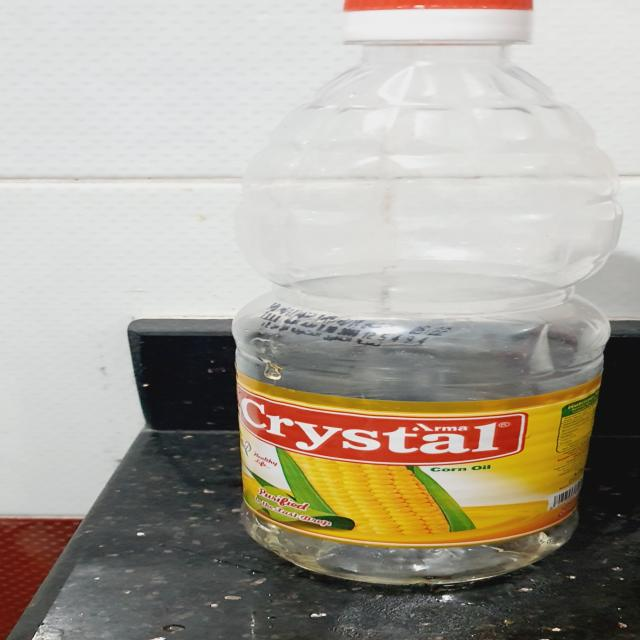plastic: (232, 0, 626, 592)
